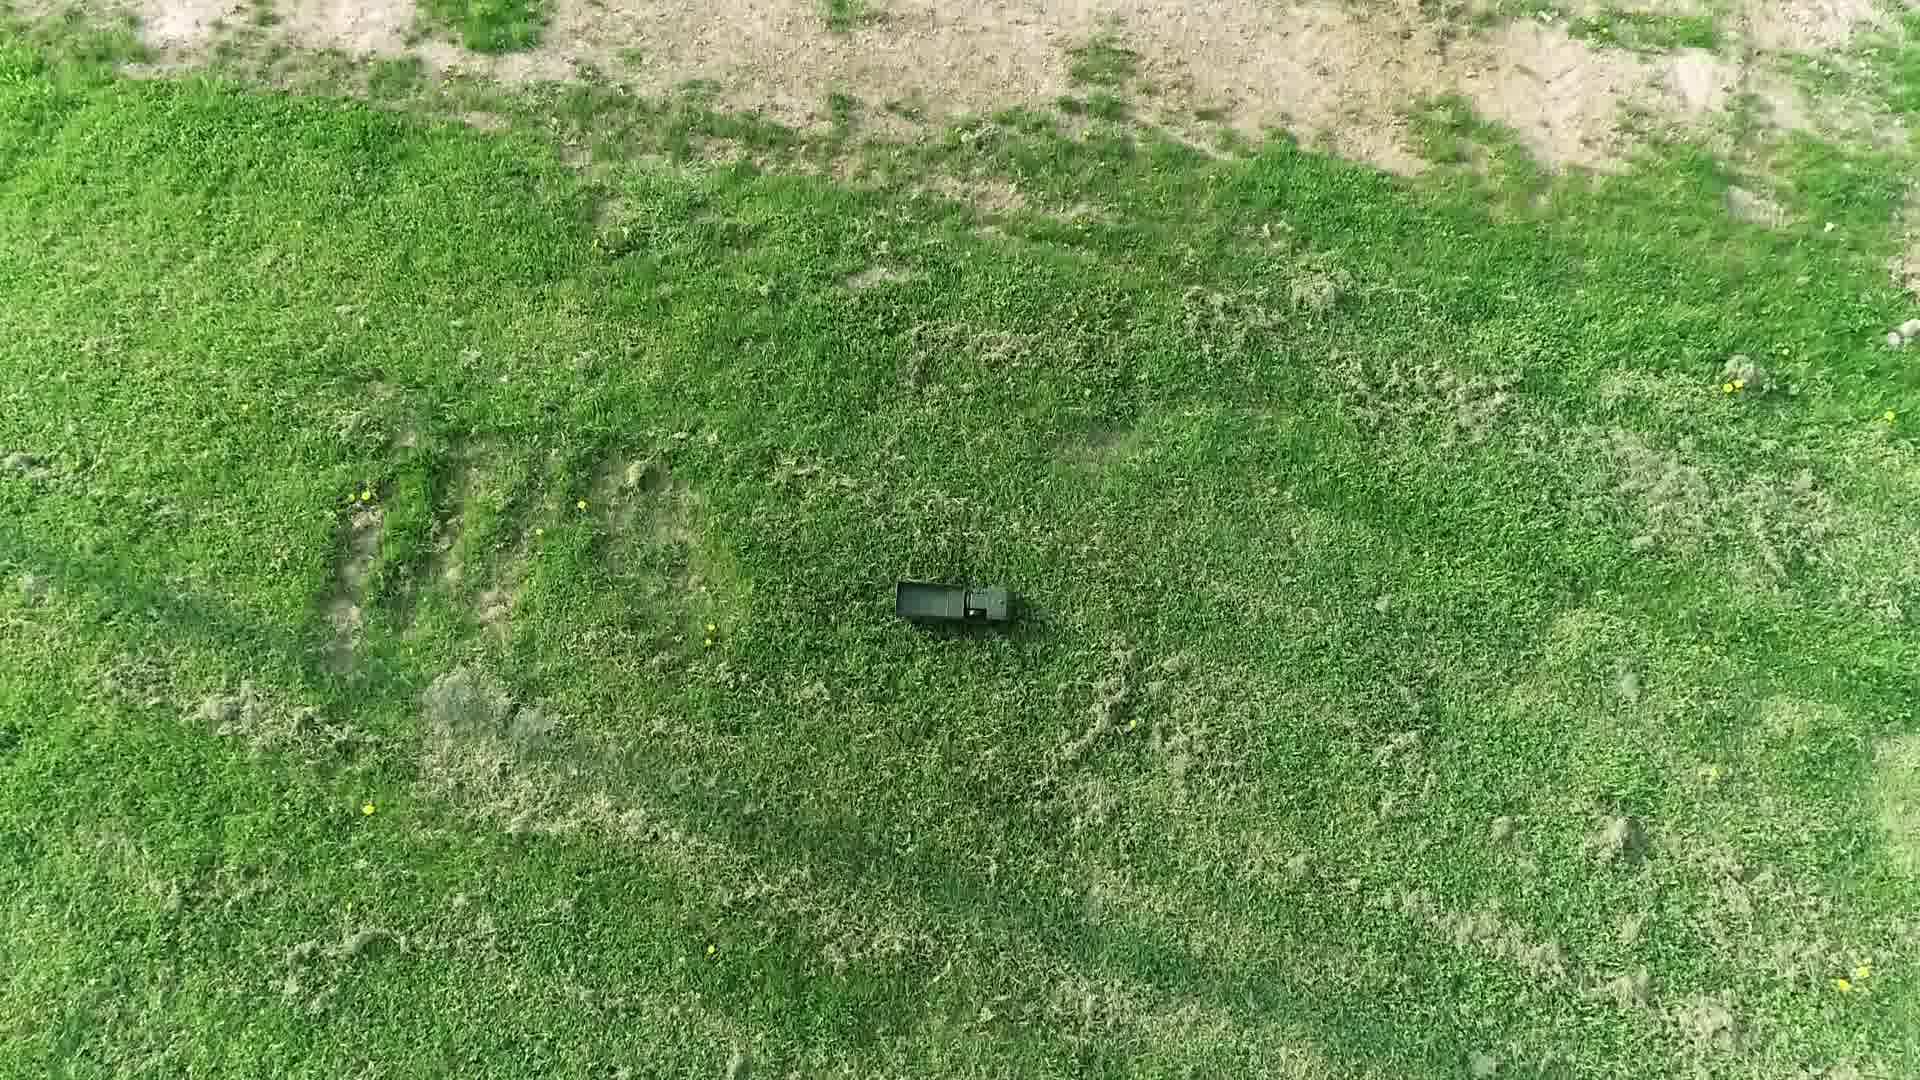transporter9: (887, 574, 1021, 632)
